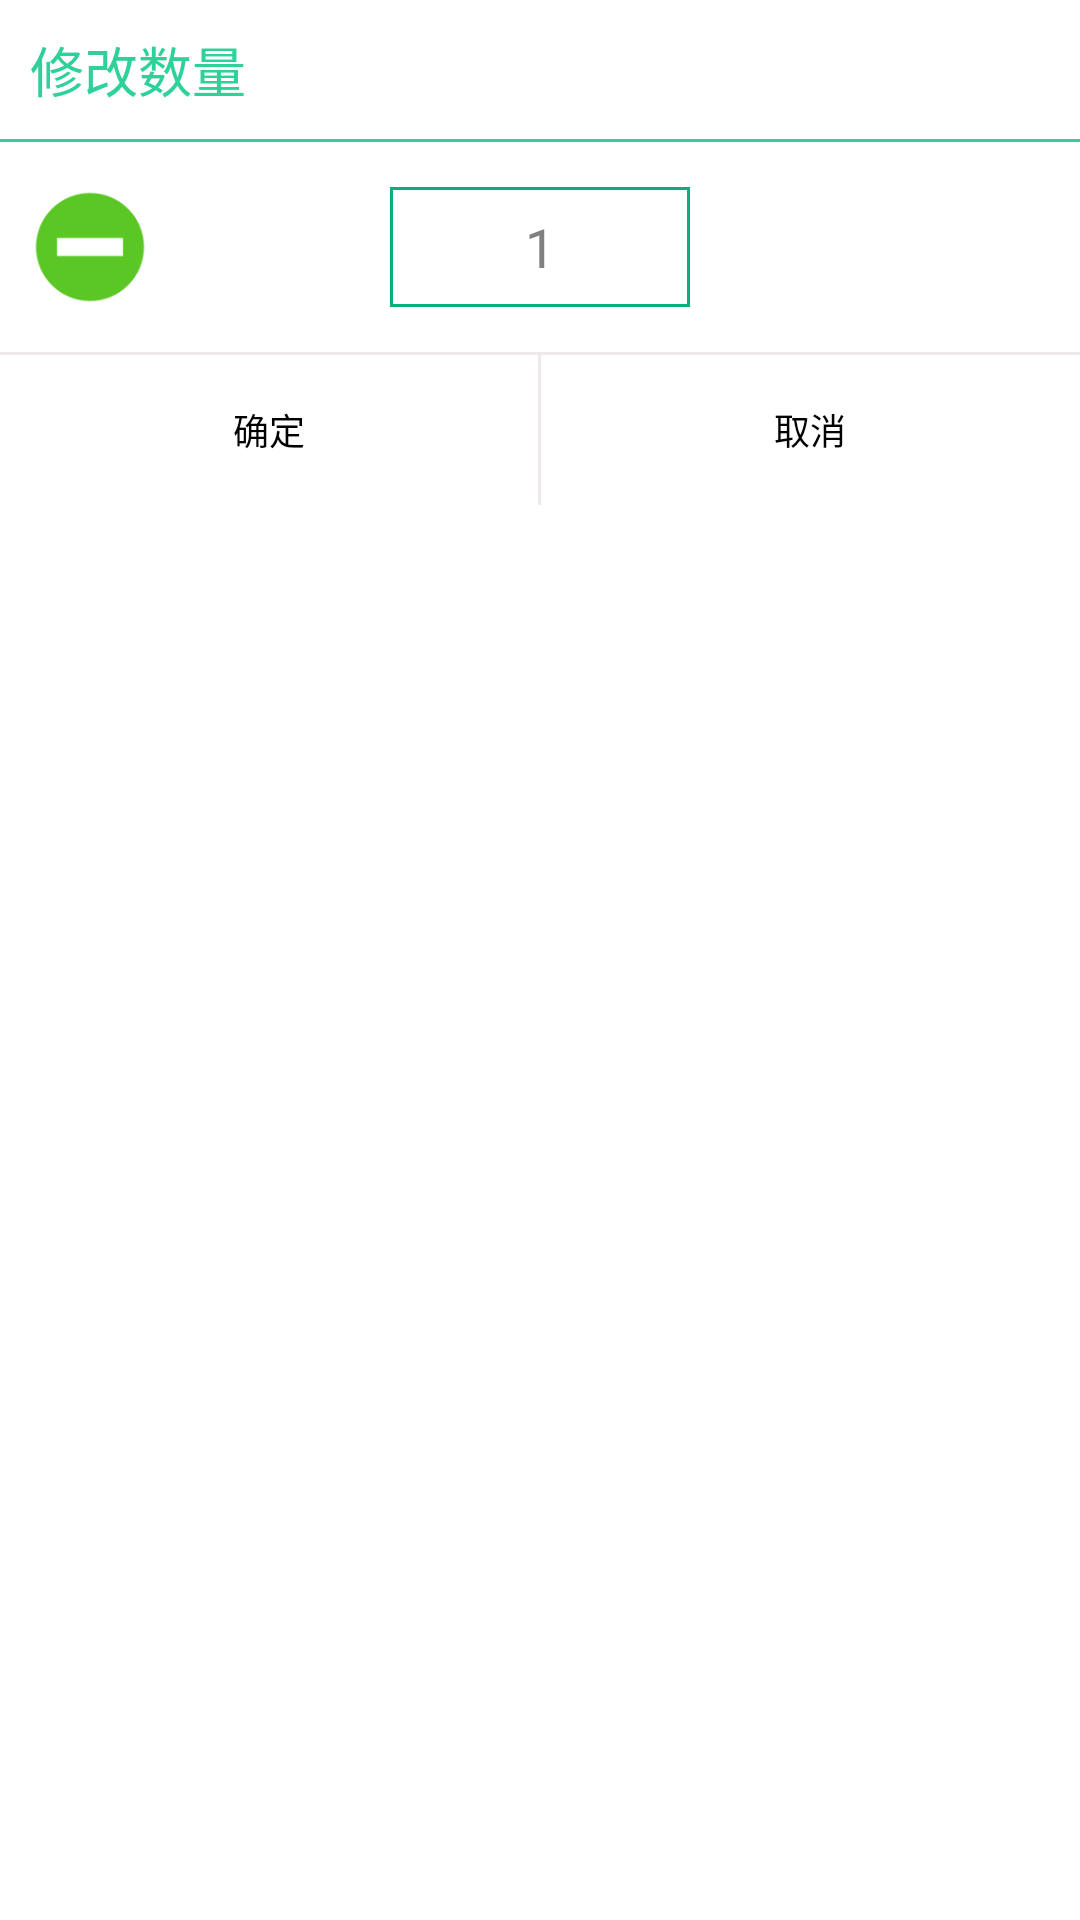

Icons on this 1080 x 1920 Android screen, each with its box as [x1,y1,x2,y2]:
minus sign: [35,192,145,302]
